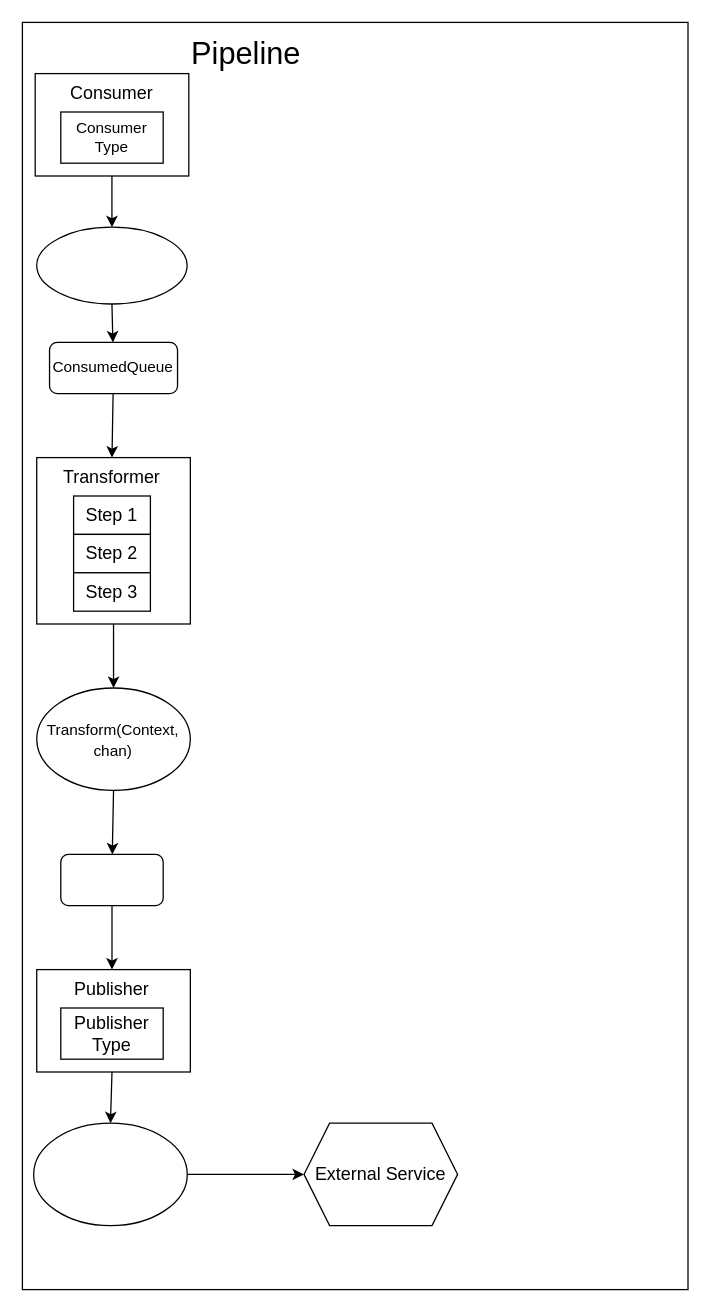
Image size: 710x1312. Some labels were removed from this diagram. Each missing label, with the centre of its shape:
"Consume(Context, chan)" goes at [111,265].
"Publish(Context)" goes at [109,1174].
"PublishQueue" goes at [111,879].
